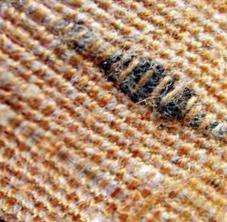slub: (40, 14, 227, 141)
